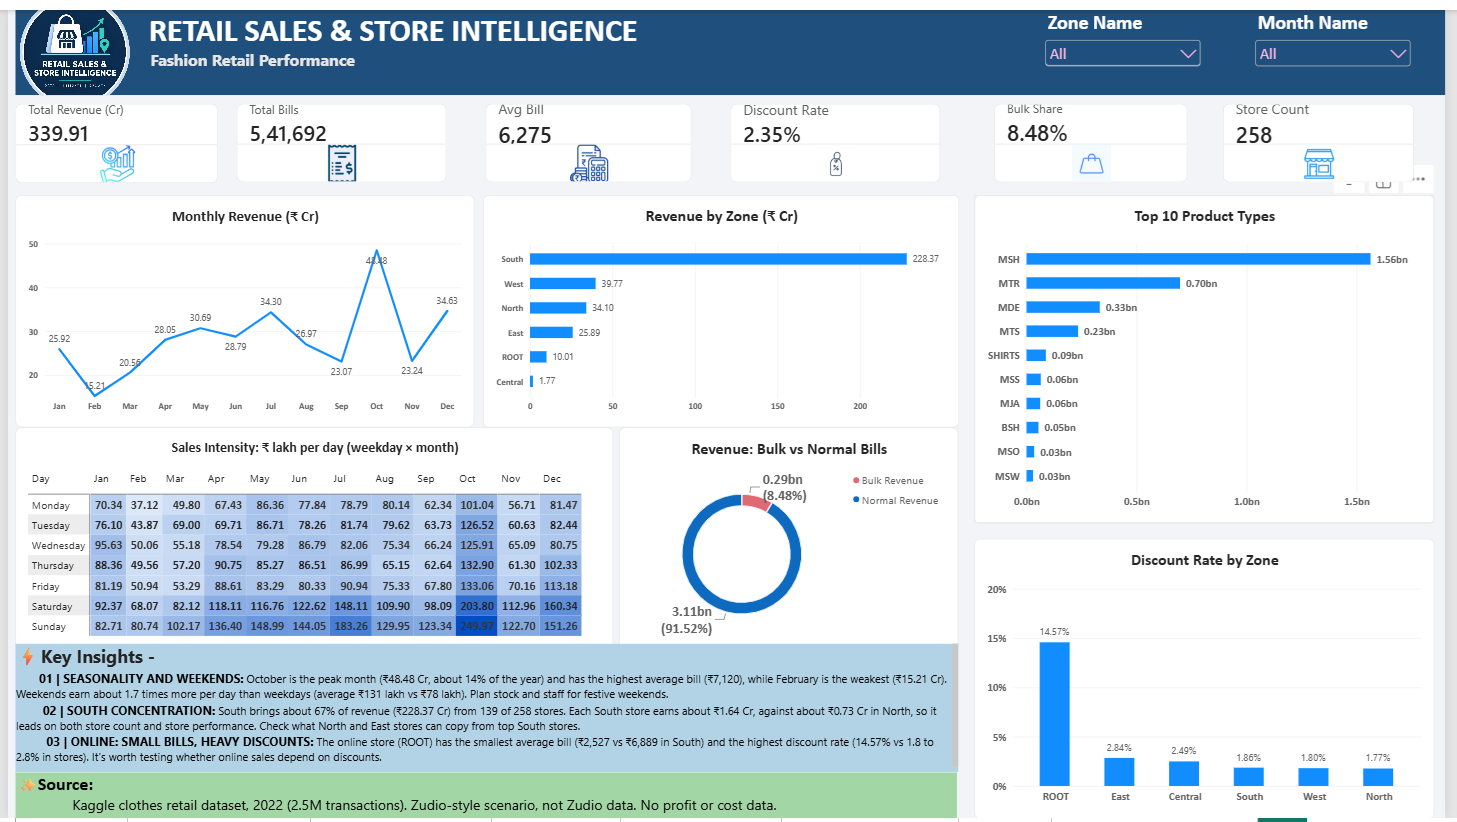

What the dashboard file says about the page in this screenshot:
{"tool":"powerbi","page":{"name":"Final Dashboard","canvas":[1920,1080],"ordinal":4},"visuals":[{"type":"textbox","box":[10,0,1910.2,113.5],"z":0},{"type":"cardVisual","fields":{"Data":["fact_month_zone.Total Revenue (Cr)"]},"box":[10,125.2,270.5,106.9],"z":1000},{"type":"cardVisual","fields":{"Data":["fact_month_zone.Total Bills"]},"box":[305.6,125.2,280.5,105.2],"z":2000},{"type":"slicer","title":"Zone=","fields":{"Values":["dim_zone.zone_name"]},"box":[1380.9,0,217.1,113.5],"z":7000},{"type":"slicer","fields":{"Values":["dim_month.month_name"]},"box":[1661.4,0,217.1,113.5],"z":8000},{"type":"lineChart","title":"Monthly Revenue (₹ Cr)","fields":{"Category":["dim_month.month_short"],"Y":["fact_month_zone.Total Revenue (Cr)"]},"box":[10,247.1,612.8,310.6],"z":8001},{"type":"pivotTable","title":"Sales Intensity: ₹ lakh per day (weekday × month)","fields":{"Columns":["dim_month.month_short"],"Rows":["fact_weekday_month_zone.weekday_name"],"Values":["fact_weekday_month_zone.Revenue per Day (Lakh)"]},"box":[9.2,557.7,798.8,298.2],"z":8002},{"type":"donutChart","title":"Revenue: Bulk vs Normal Bills","fields":{"Y":["fact_month_zone.Bulk Revenue","fact_month_zone.Normal Revenue"]},"box":[817.2,557.7,452.8,298.2],"z":8003},{"type":"barChart","title":"Revenue by Zone (₹ Cr)","fields":{"Category":["dim_zone.zone_name"],"Y":["fact_month_zone.Total Revenue (Cr)"]},"box":[634.5,247.1,636.2,310.6],"z":8004},{"type":"barChart","title":"Top 10 Product Types","fields":{"Category":["fact_type_zone_month.type_code"],"Y":["Sum(fact_type_zone_month.revenue)"]},"box":[1290.7,247.1,614.5,439.1],"z":8005},{"type":"columnChart","title":"Discount Rate by Zone ","fields":{"Category":["dim_zone.zone_name"],"Y":["fact_month_zone.Discount Rate"]},"box":[1290.7,706.3,614.5,374],"z":8006},{"type":"cardVisual","fields":{"Data":["dim_zone.Store Count"]},"box":[1623,125.2,255.5,105.2],"z":8008},{"type":"cardVisual","fields":{"Data":["fact_month_zone.Bulk Share"]},"box":[1317.4,125.2,258.8,105.2],"z":8009},{"type":"cardVisual","fields":{"Data":["fact_month_zone.Discount Rate"]},"box":[965.1,125.2,280.5,105.2],"z":8010},{"type":"cardVisual","fields":{"Data":["fact_month_zone.Avg Bill"]},"box":[637.9,125.2,275.5,105.2],"z":8011},{"type":"textbox","box":[9.2,846.6,1258.9,171.2],"z":8012},{"type":"image","box":[0,0,180.3,113.5],"z":8013},{"type":"textbox","box":[10,1018.6,1257.3,61.8],"z":8014}]}

Visuals, with their boxes in screenshot pixels (x1, y1, x2, y2), scaled from the page's 1920x1080 canvas onto the 1457x822 screenshot:
textbox: detection(8, 0, 1456, 86)
cardVisual - fact_month_zone.Total Revenue (Cr): detection(8, 95, 213, 177)
cardVisual - fact_month_zone.Total Bills: detection(232, 95, 445, 175)
"Zone=" slicer: detection(1048, 0, 1213, 86)
slicer - dim_month.month_name: detection(1261, 0, 1426, 86)
"Monthly Revenue (₹ Cr)" lineChart: detection(8, 188, 473, 424)
"Sales Intensity: ₹ lakh per day (weekday × month)" pivotTable: detection(7, 424, 613, 651)
"Revenue: Bulk vs Normal Bills" donutChart: detection(620, 424, 964, 651)
"Revenue by Zone (₹ Cr)" barChart: detection(481, 188, 964, 424)
"Top 10 Product Types" barChart: detection(979, 188, 1446, 522)
"Discount Rate by Zone " columnChart: detection(979, 538, 1446, 821)
cardVisual - dim_zone.Store Count: detection(1232, 95, 1426, 175)
cardVisual - fact_month_zone.Bulk Share: detection(1000, 95, 1196, 175)
cardVisual - fact_month_zone.Discount Rate: detection(732, 95, 945, 175)
cardVisual - fact_month_zone.Avg Bill: detection(484, 95, 693, 175)
textbox: detection(7, 644, 962, 775)
image: detection(0, 0, 137, 86)
textbox: detection(8, 775, 962, 821)
